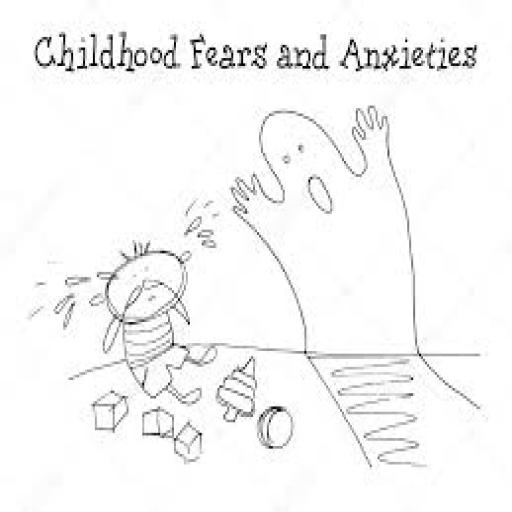person: (16, 243, 224, 408)
